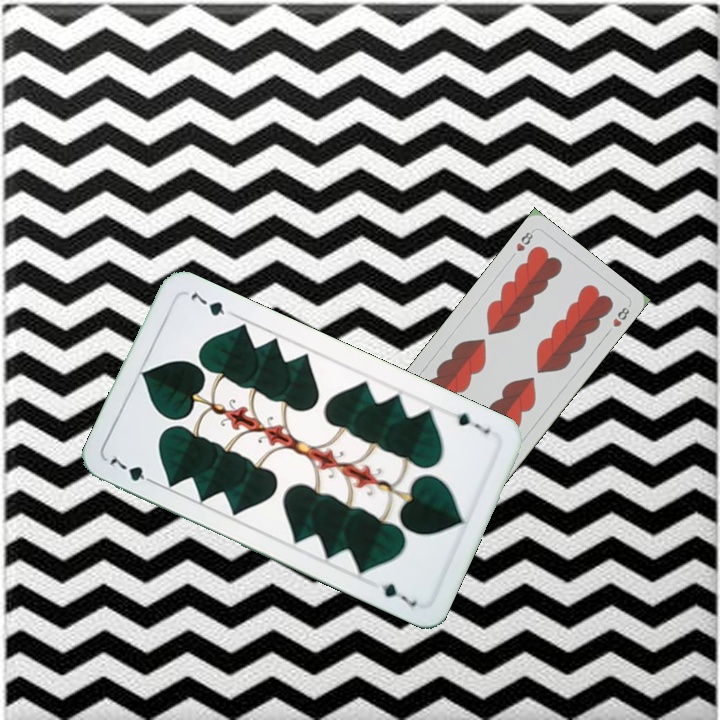G7: (106, 451, 160, 488), (452, 408, 493, 437)
H8: (512, 226, 536, 254)
